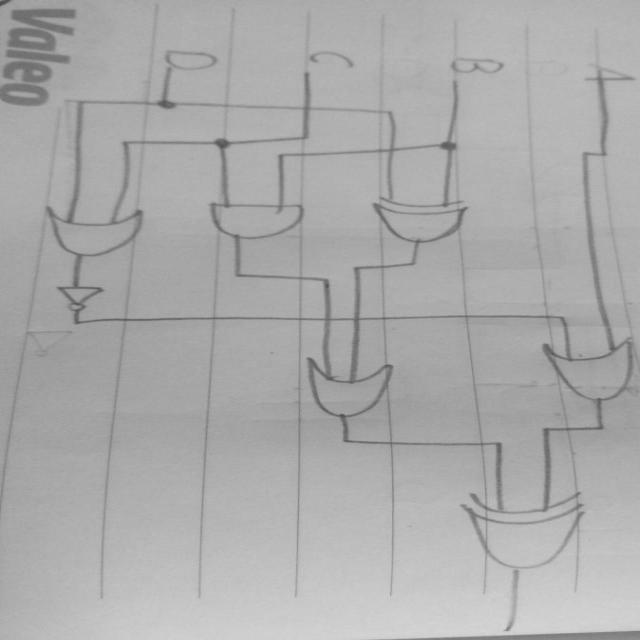AND: (202, 194, 323, 246)
NOT: (45, 278, 126, 320)
OR: (280, 346, 414, 421), (31, 194, 162, 262), (529, 337, 640, 407)
XOR: (441, 480, 601, 579), (361, 185, 493, 246)
